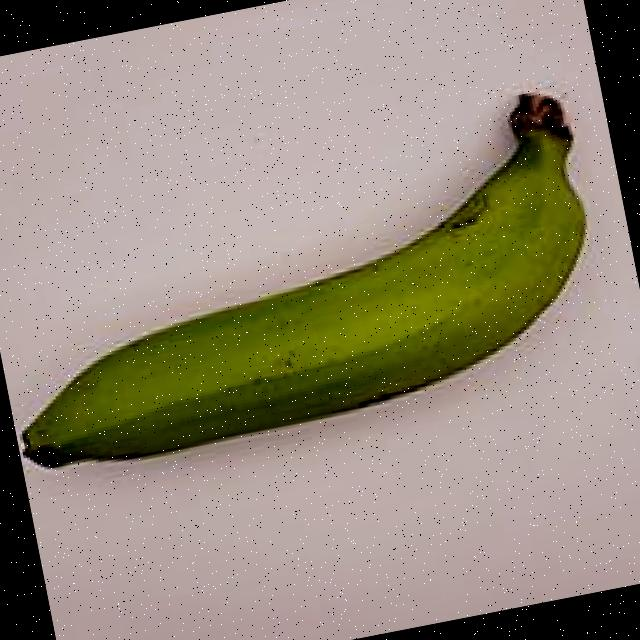Raw: (0, 49, 640, 516)
